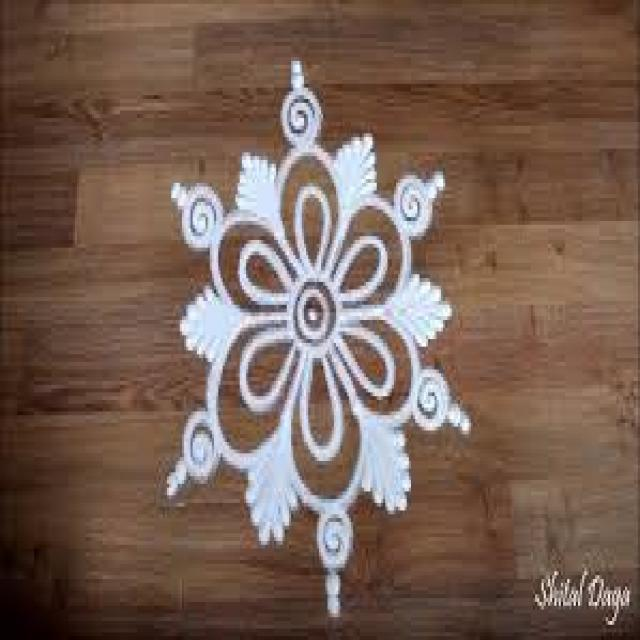rangoli: (153, 42, 478, 626)
